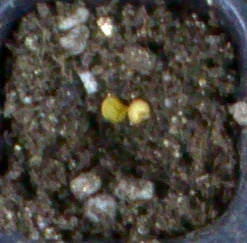chilli seed: (101, 97, 125, 122), (127, 99, 150, 123)
